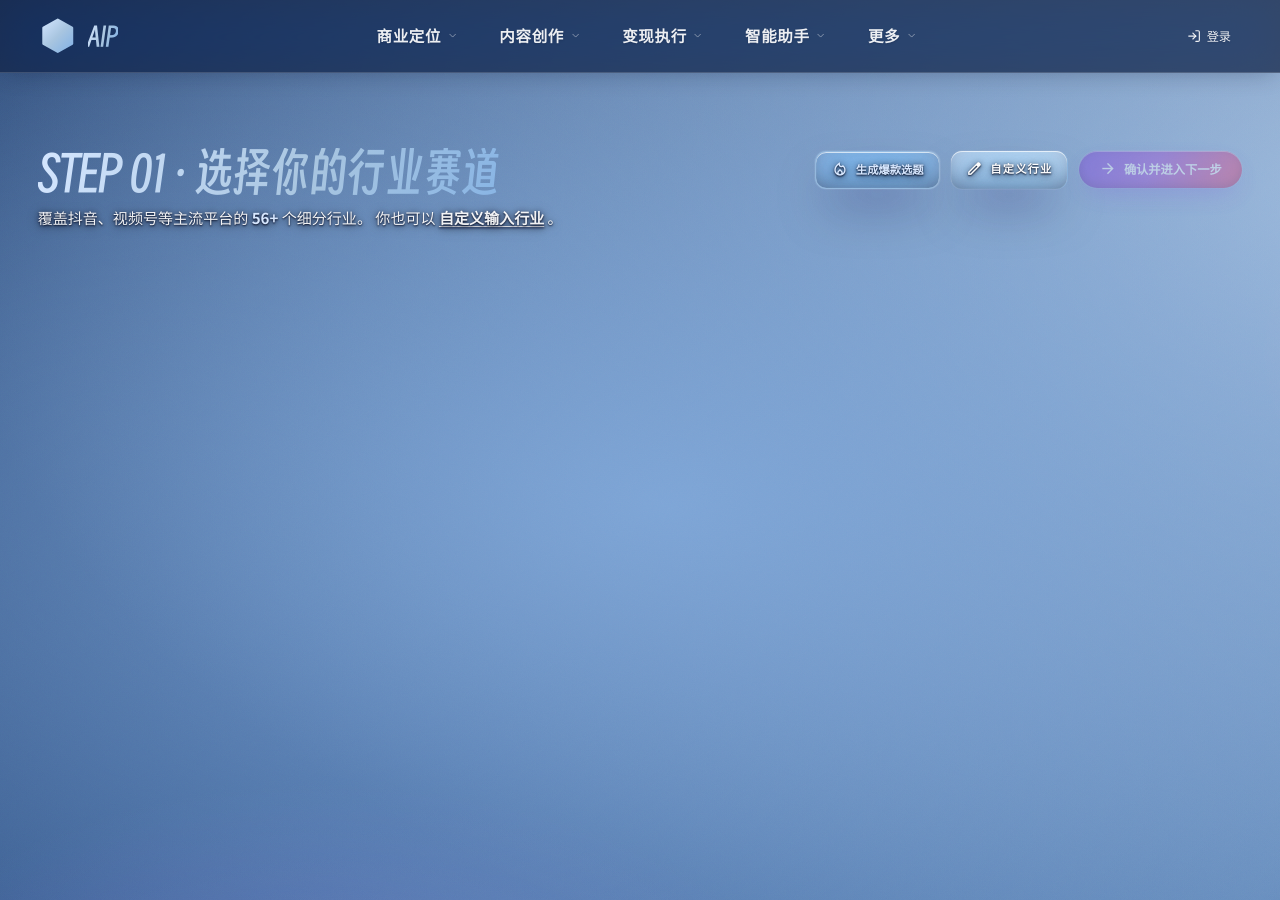
Test: Step1 · inline link 触发 modal › 点击 subtitle 自定义输入行业 → modal 对话框出现
Click the button with test id "subtitle-custom-link": (492, 218) [439,207,544,229]
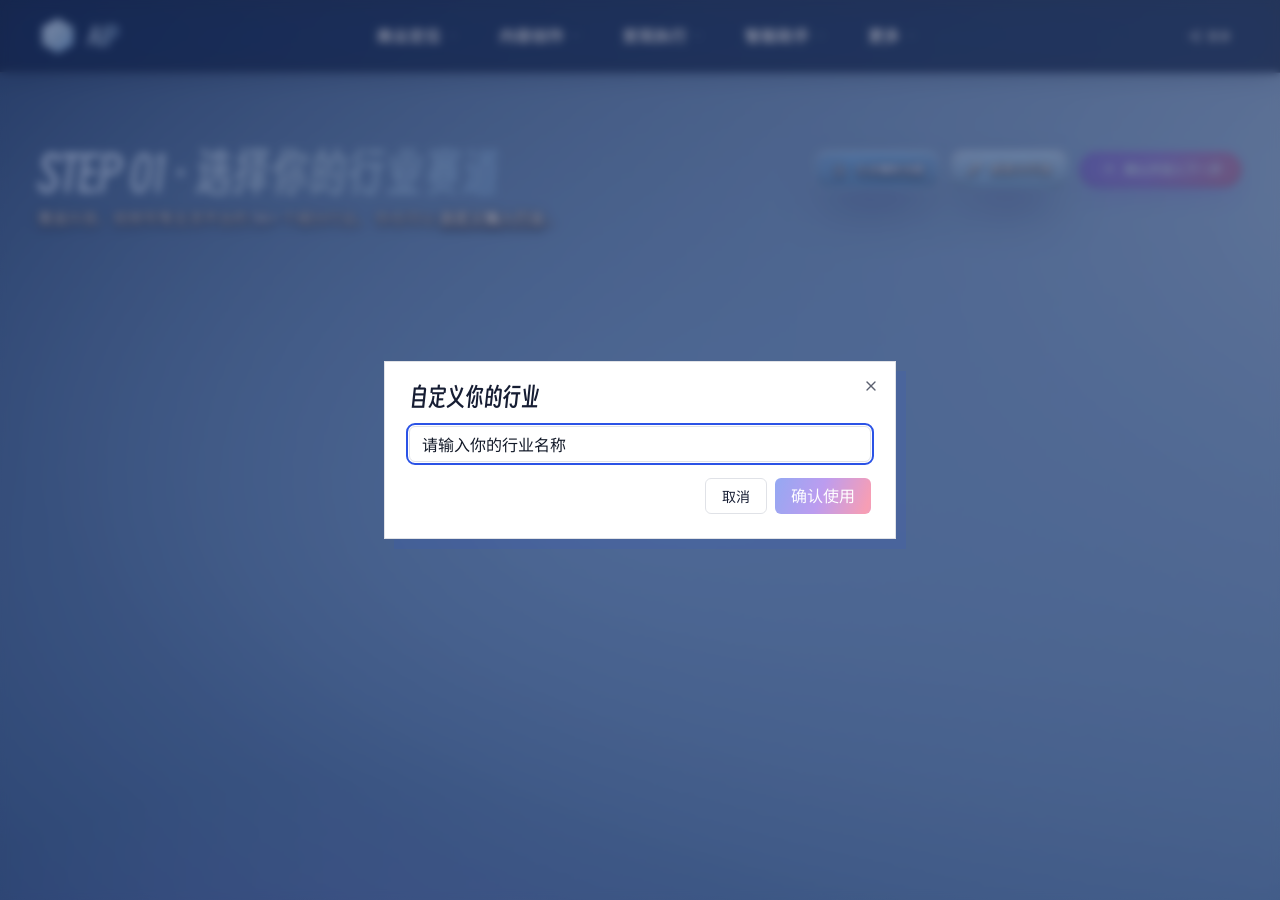
Check: the field with test id "custom-industry-input" is shown, box [409,426,871,462]
